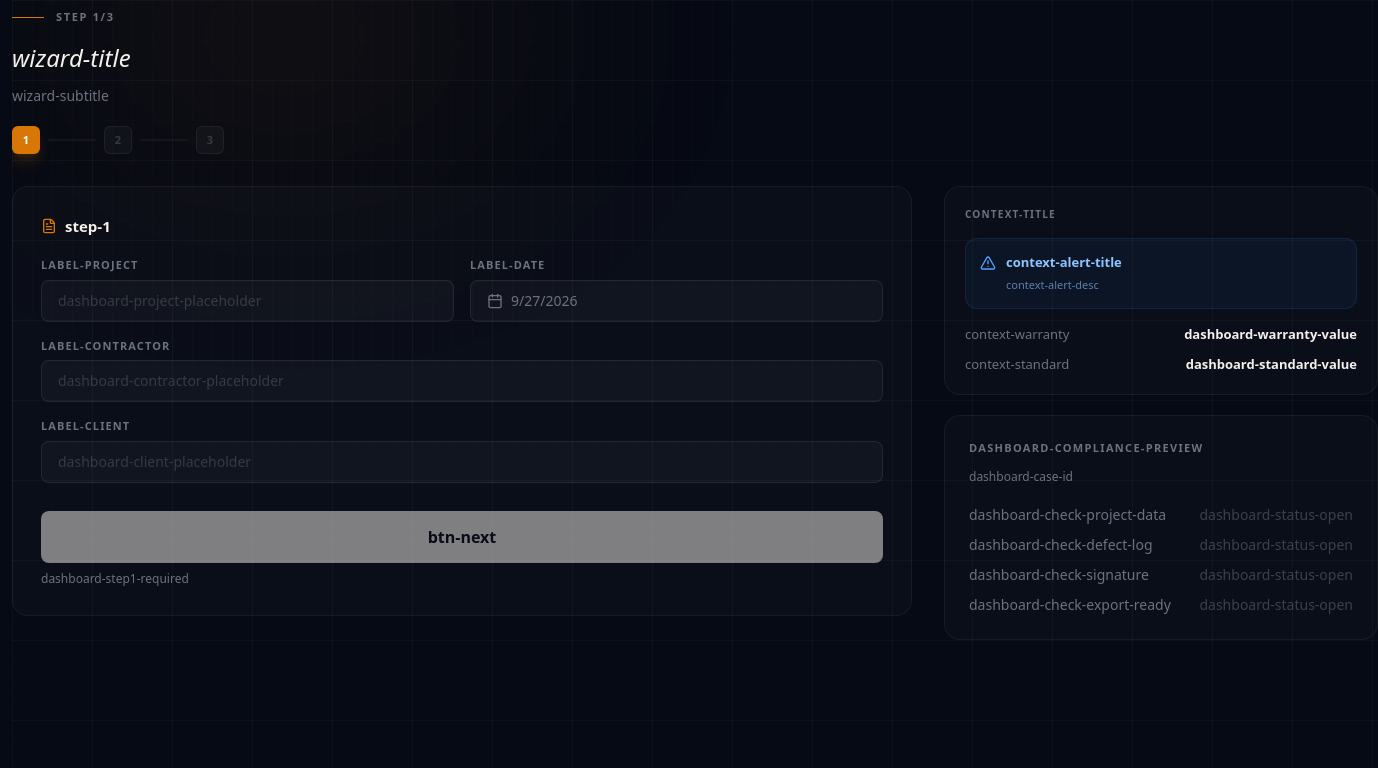
Scenario: dashboard photo vault handoff › exposes the Step 2 signature capture area by its visible label
Type "Alpine Tower" into the field with placeholder "dashboard-project-placeholder" at (248, 301), box [41,280,454,322]
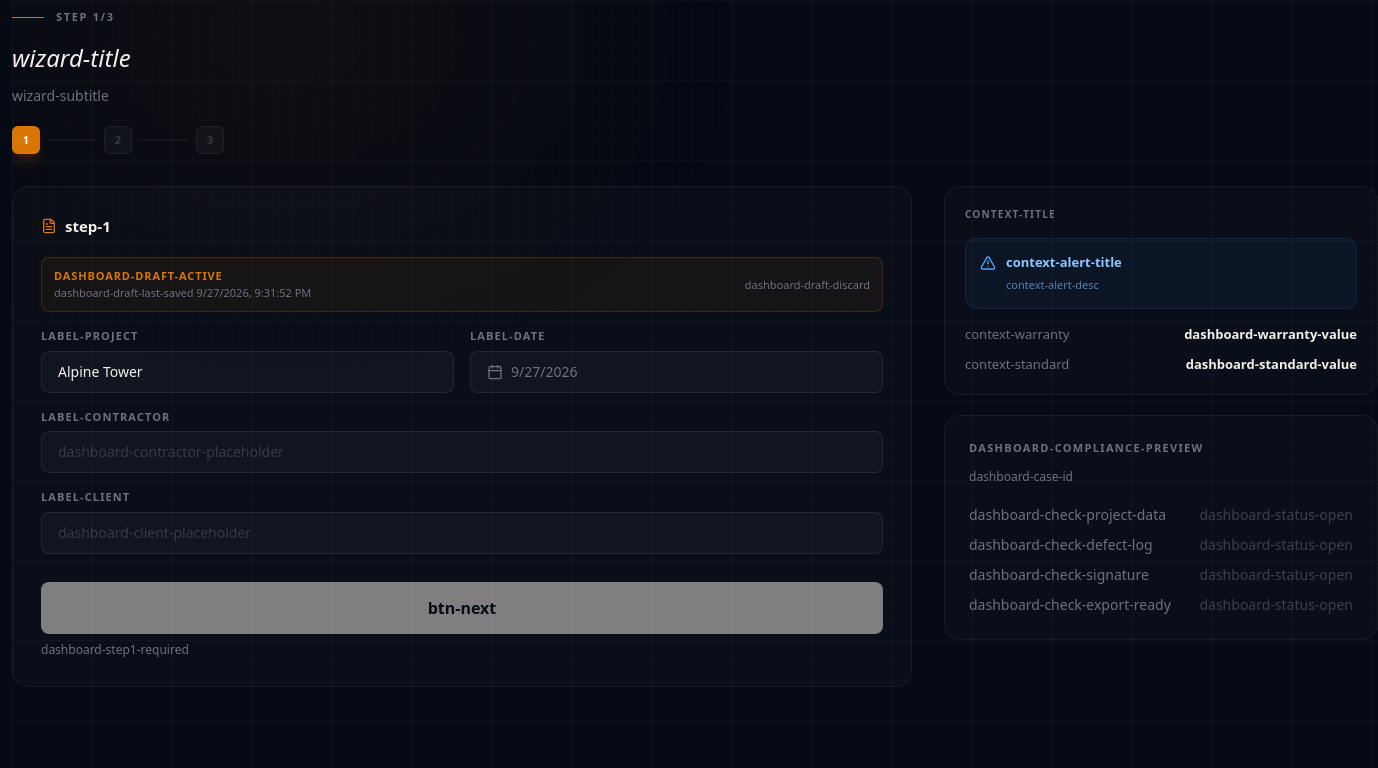
Type "Builder AG" into the field with placeholder "dashboard-contractor-placeholder" at (462, 452), box [41,431,883,473]
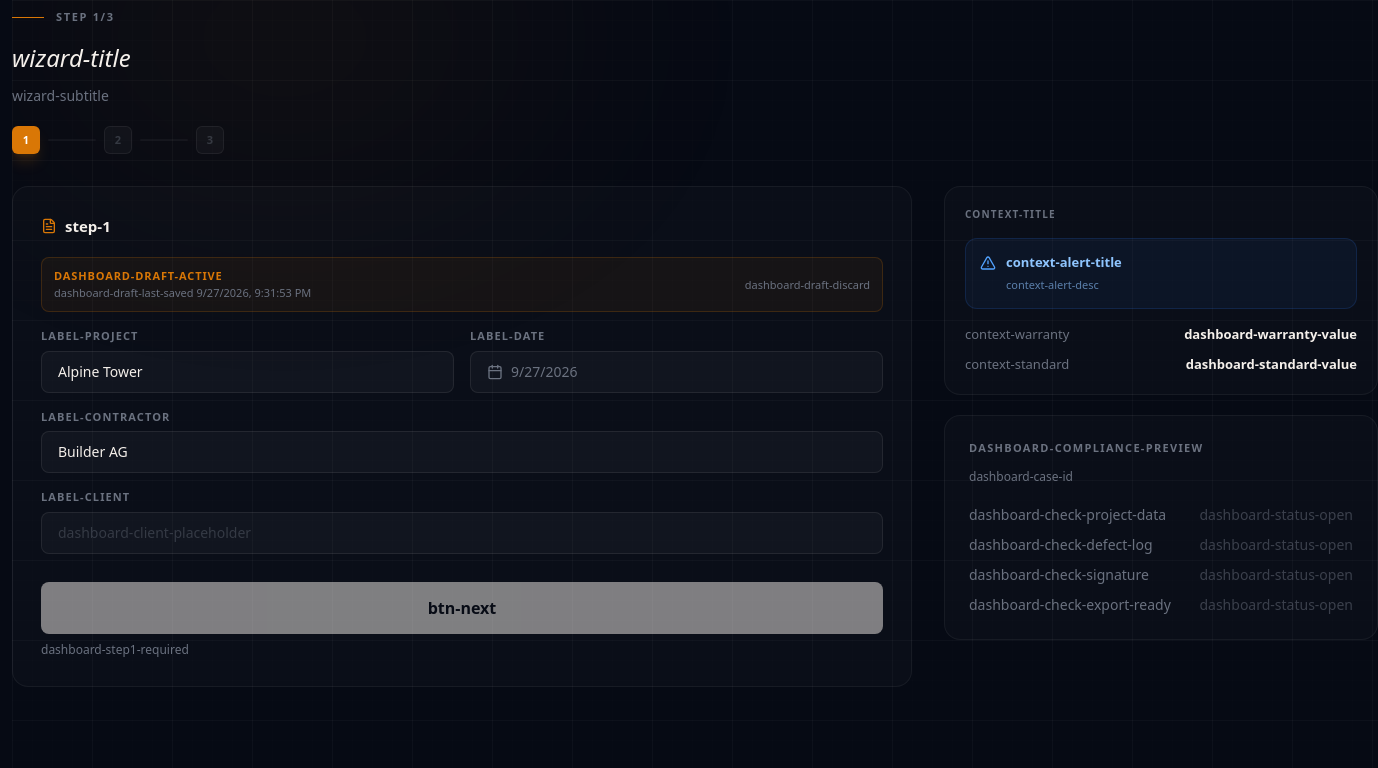
Type "Owner GmbH" into the field with placeholder "dashboard-client-placeholder" at (462, 533), box [41,512,883,554]
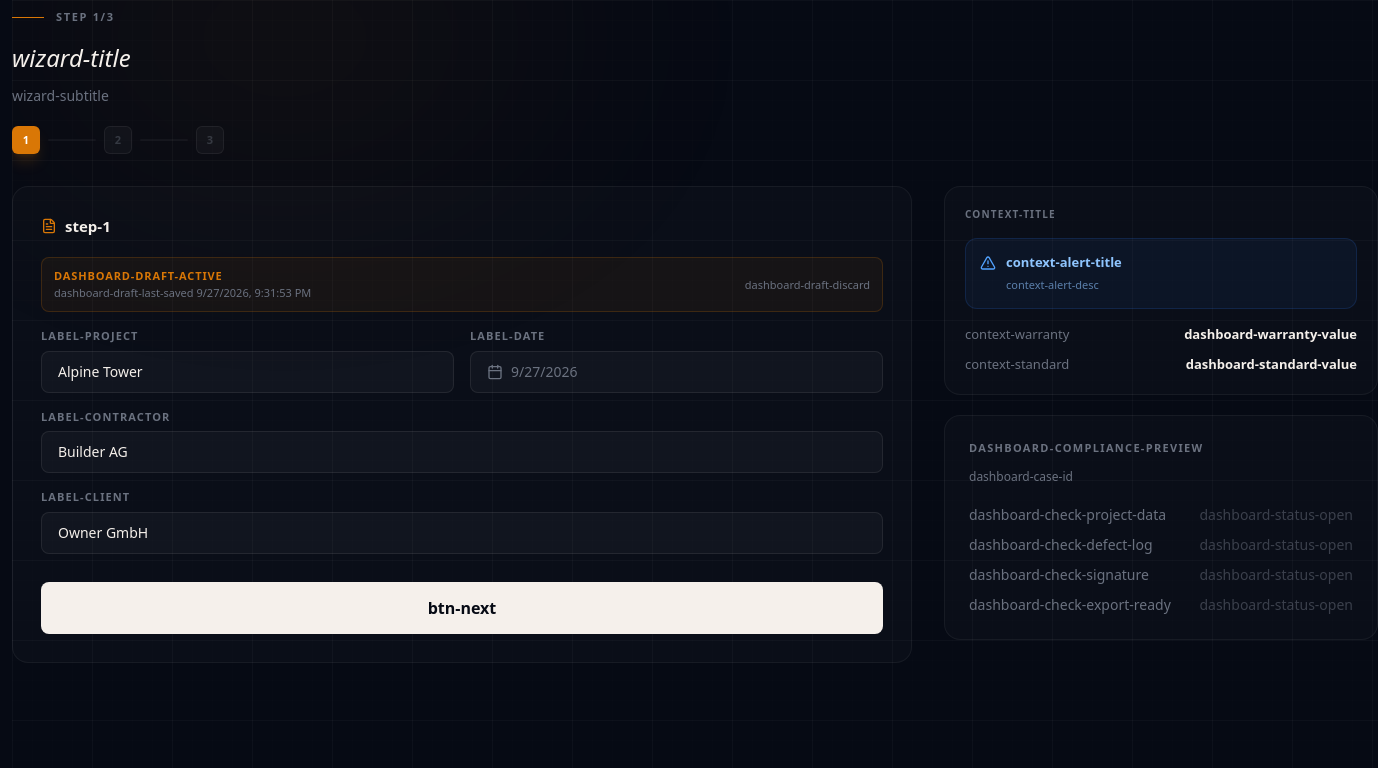
Click the button "btn-next" at (462, 608), box [41,582,883,634]
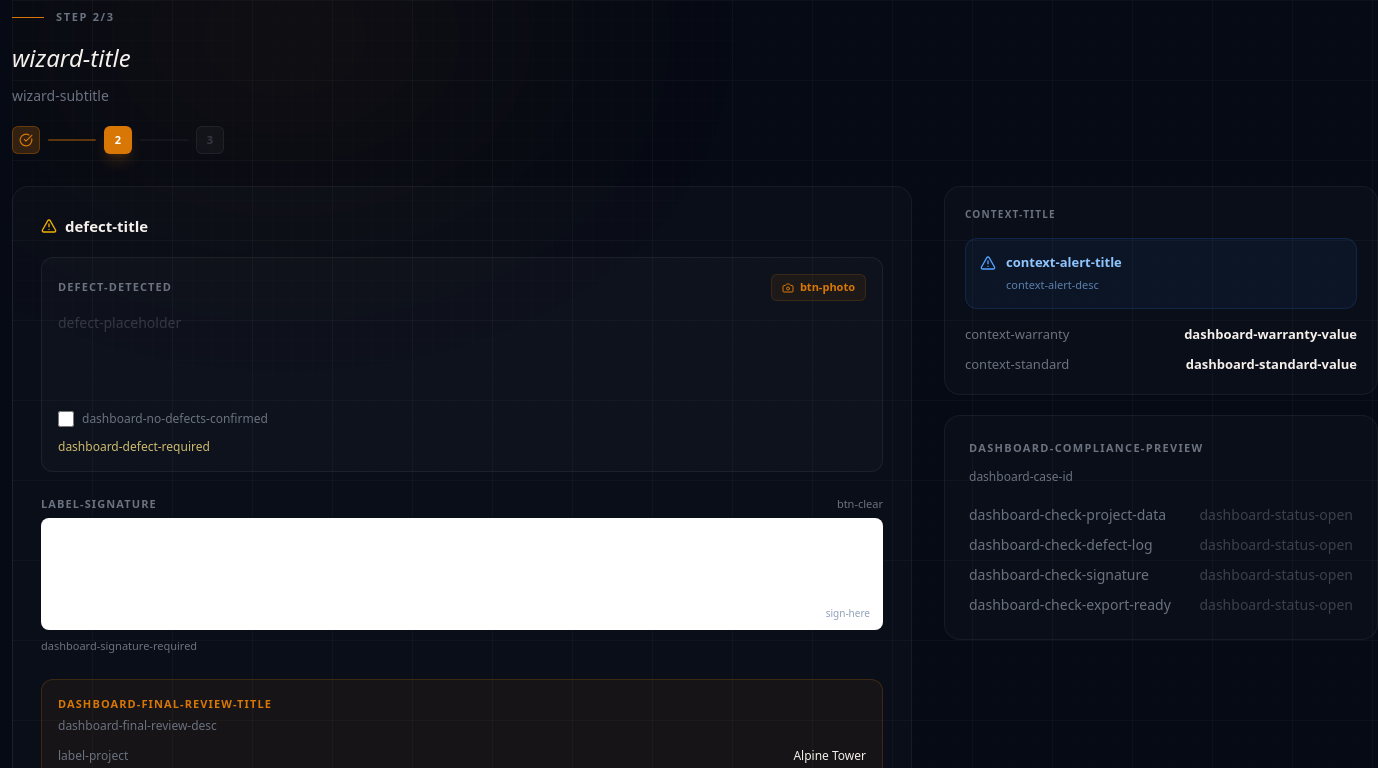
Expected: the element named "label-signature" is shown, [41,518,883,630]
